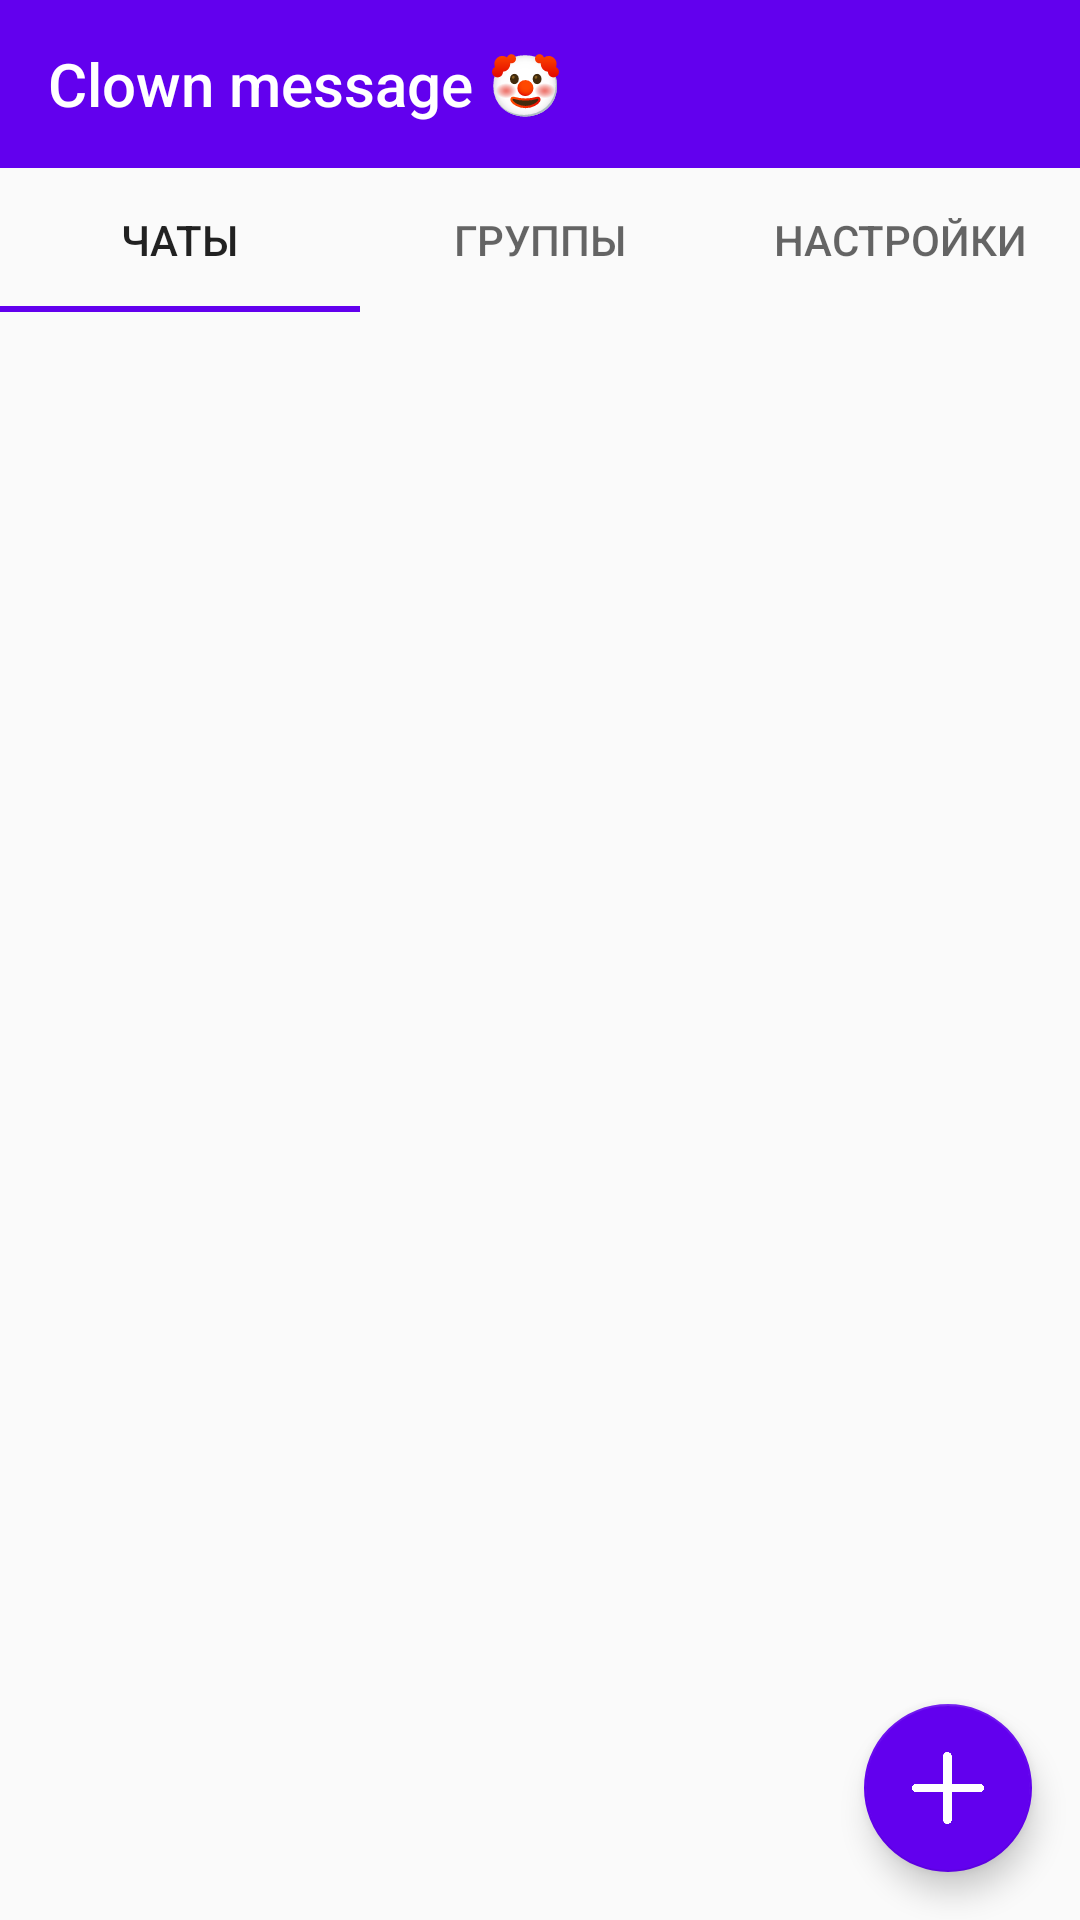

Icons on this 1080×1920 Android screen, each with the point to tap as [x,y]:
plus bor: [948,1788]
